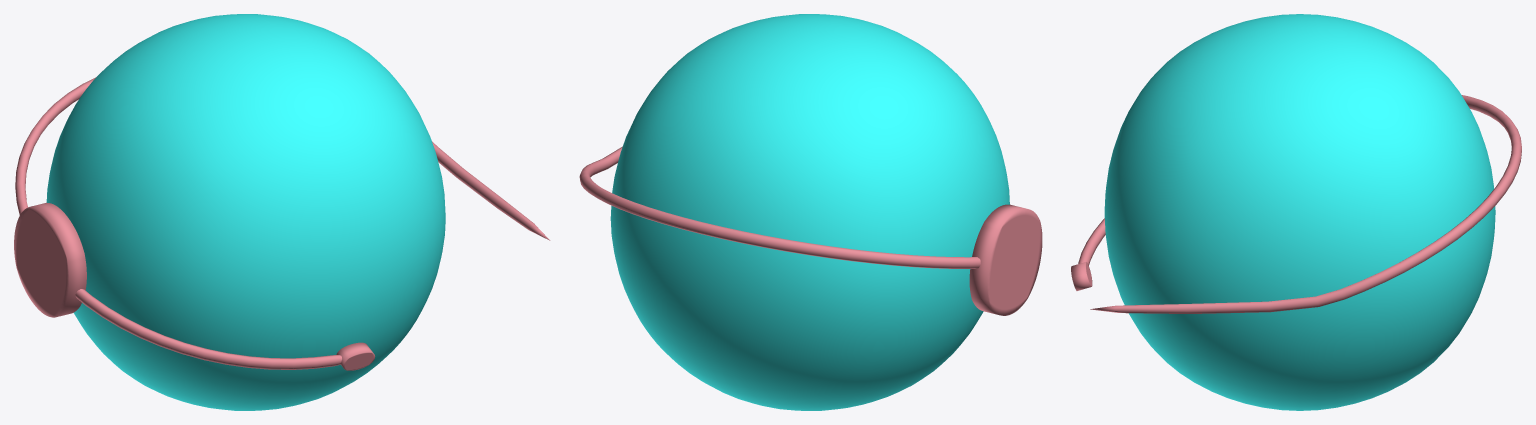
File: Ball (Default).glb
The picture shows the model from 3 angles, left to right: view 1: azimuth 30°, elevation 25°; view 2: azimuth 150°, elevation 25°; view 3: azimuth 270°, elevation 25°; orthographic projection.
Visible parts, largest first — view 1: Sphere-Normal, frame, headset, mic; view 2: Sphere-Normal, headset, frame; view 3: Sphere-Normal, frame, mic.
Part boxes in pixels (x1=…): Sphere-Normal: x1=46, y1=14, x2=445, y2=410; frame: x1=15, y1=77, x2=550, y2=369; headset: x1=14, y1=202, x2=86, y2=317; mic: x1=336, y1=342, x2=375, y2=370; Sphere-Normal: x1=610, y1=14, x2=1009, y2=410; headset: x1=969, y1=204, x2=1042, y2=315; frame: x1=579, y1=146, x2=980, y2=268; Sphere-Normal: x1=1104, y1=14, x2=1495, y2=410; frame: x1=1078, y1=95, x2=1521, y2=313; mic: x1=1071, y1=262, x2=1092, y2=290.
Bounding box in the file's own units: 2.05 × 1.7 × 1.96.
